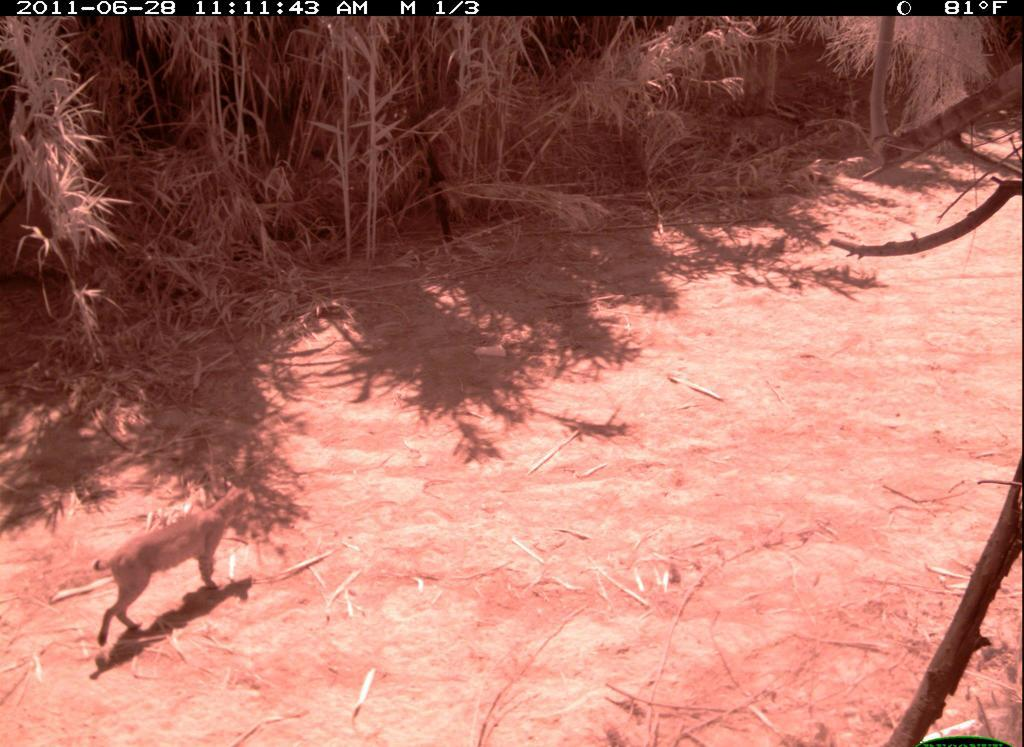bobcat: (91, 475, 260, 652)
